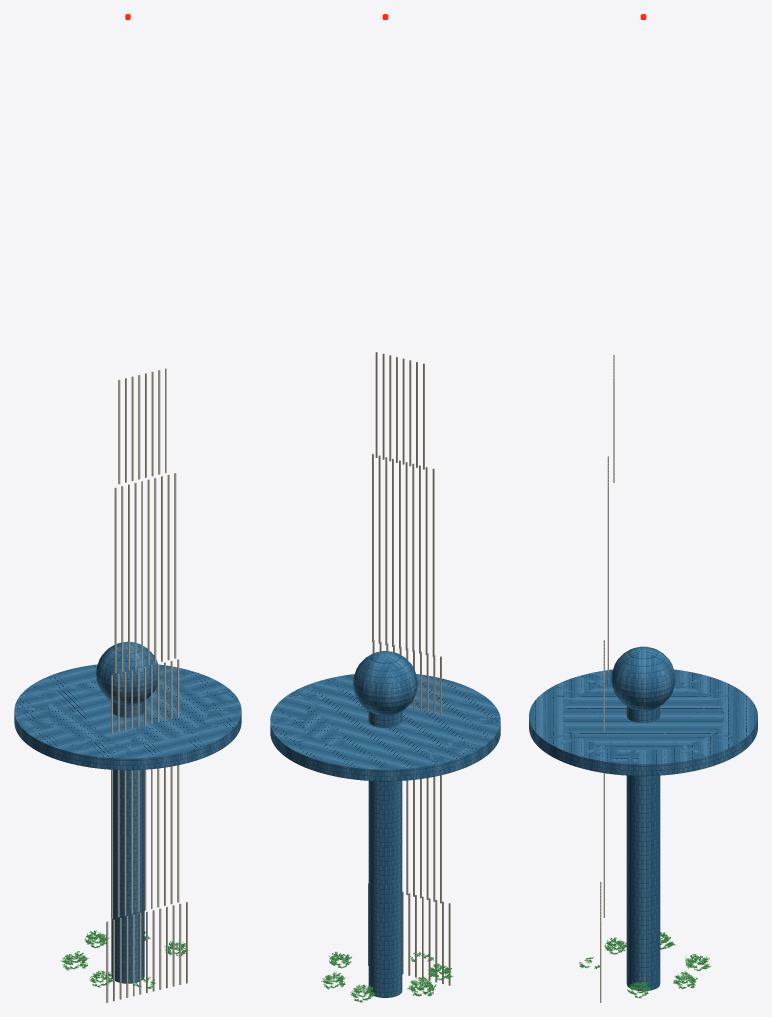
The model's file is Catalog-43.glb.
3 renders of one model, left to right at view 1: azimuth 30°, elevation 25°; view 2: azimuth 150°, elevation 25°; view 3: azimuth 270°, elevation 25°, orthographic.
Visible parts, largest first — view 1: Metropolis Glass Glacier, Metropolis Stone, Neris Mature Jade Leaves; view 2: Metropolis Glass Glacier, Metropolis Stone, Neris Mature Jade Leaves (×2); view 3: Metropolis Glass Glacier, Metropolis Stone, Neris Mature Jade Leaves (×2).
Part boxes in pixels (x1,y1,x2,y2): Metropolis Glass Glacier: [14, 641, 241, 983]; Metropolis Stone: [106, 368, 187, 1002]; Neris Mature Jade Leaves: [60, 930, 155, 988]; Metropolis Glass Glacier: [270, 651, 500, 997]; Metropolis Stone: [368, 352, 450, 985]; Neris Mature Jade Leaves (×2): [321, 951, 453, 1002]; Metropolis Glass Glacier: [529, 646, 757, 991]; Metropolis Stone: [600, 354, 614, 1002]; Neris Mature Jade Leaves (×2): [579, 932, 711, 998].
Bounding box in the file's own units: 178 × 831 × 178.
Materials: 5 (1 with a texture image).
